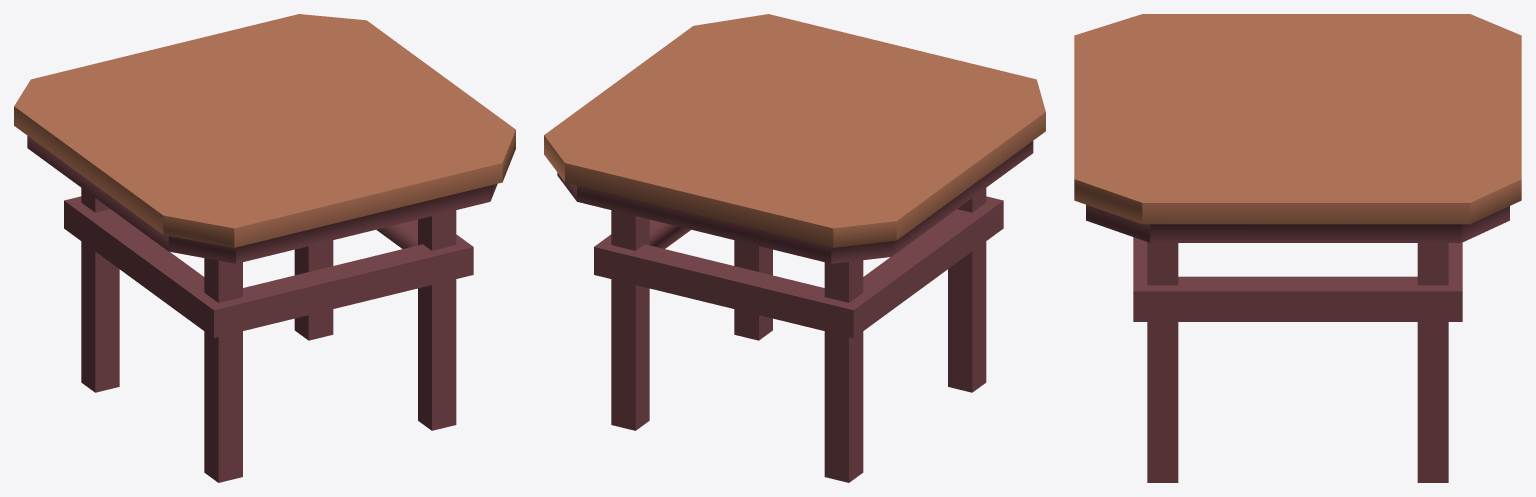
The model's file is Table.fbx.
3 views of the same model, side by side, from view 1: azimuth 30°, elevation 25°; view 2: azimuth 150°, elevation 25°; view 3: azimuth 270°, elevation 25° (orthographic). The views are drawn at different scales.
Visible parts, largest first — view 1: Table; view 2: Table; view 3: Table.
Part boxes in pixels (box(x1,y1,x2,y2)): Table: box(14, 14, 515, 482); Table: box(544, 14, 1045, 482); Table: box(1074, 14, 1521, 482).
Size of the model in its own units: 69.46 by 53.28 by 69.46.
1 material, 1 textured.
